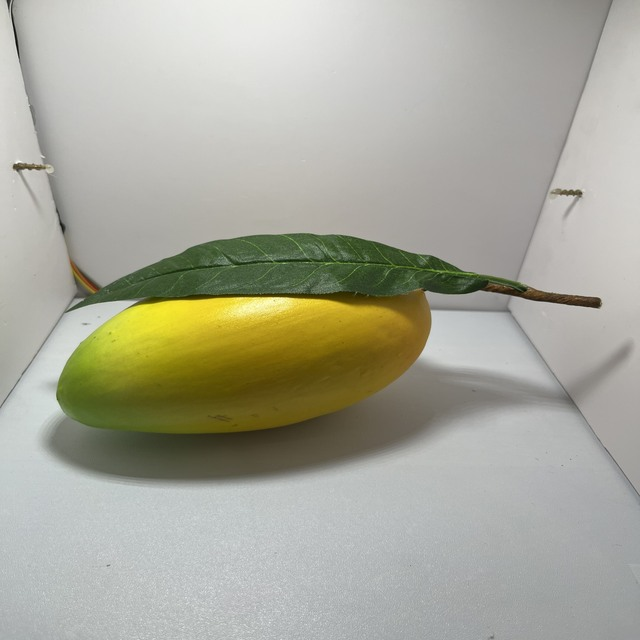Xoai: (45, 229, 450, 440)
